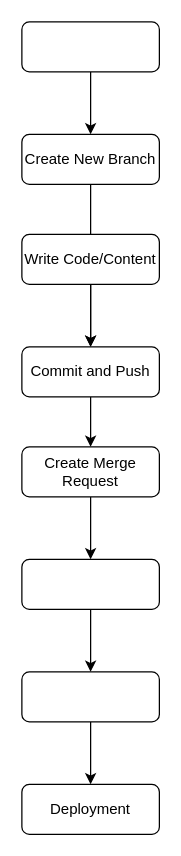
Image size: 181x856. Some labels were removed from this diagram. Here are the shapes that lost their labels. From the top down, the centre of each, then its label:
the point at 90,46: Receive Task
the point at 90,583: Review/Merge
the point at 90,696: CI/CD Pipeline
